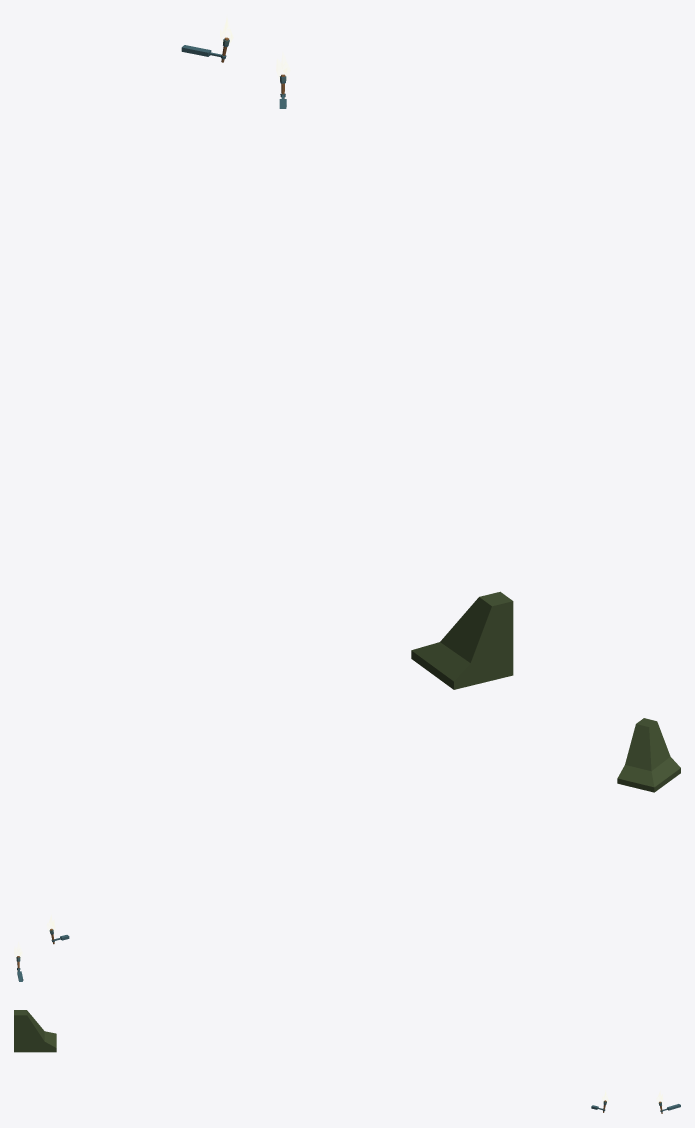
3 views of the same model, one above another, from view 1: azimuth 30°, elevation 25°; view 2: azimuth 150°, elevation 25°; view 3: azimuth 270°, elevation 25° (orthographic). The views are drawn at different scales.
Visible parts, largest first — view 1: Object196_roof1_0; view 2: Object196_roof1_0; view 3: Object196_roof1_0.
Boxes of the visible parts, x1,y1,x2,y2 form: Object196_roof1_0: [411, 591, 513, 689]; Object196_roof1_0: [617, 718, 680, 792]; Object196_roof1_0: [14, 1010, 56, 1052].
Bounding box in the file's own units: 1439 × 333 × 3889.
